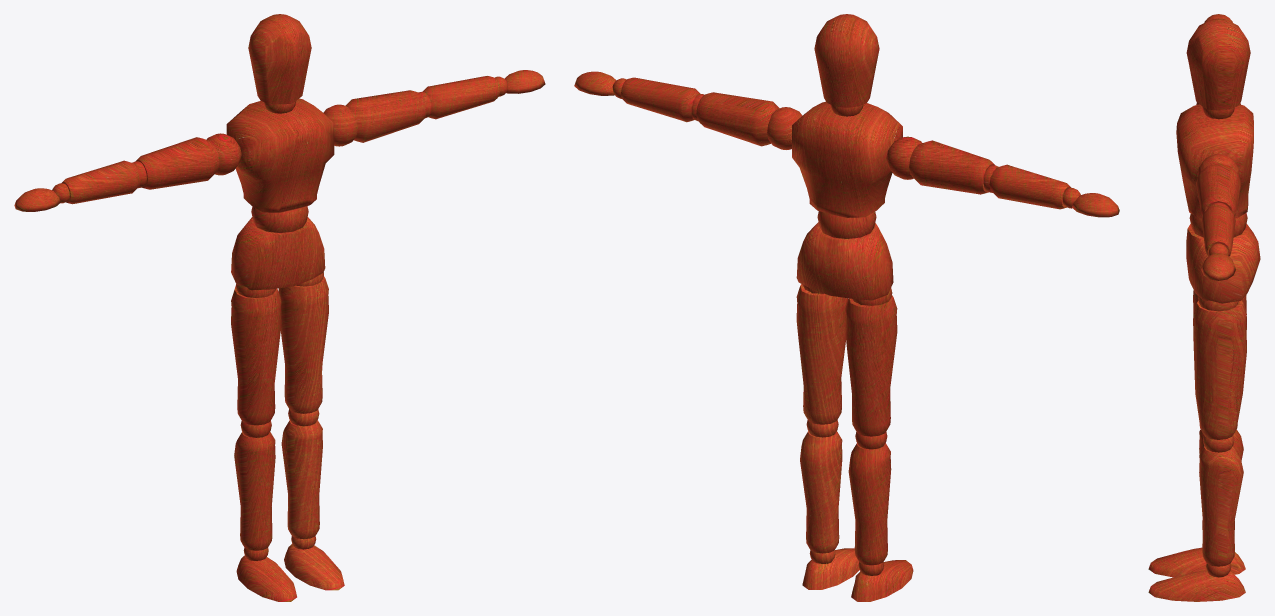
The model's file is dummy_obj_red.obj.
3 views of the same model, side by side, from view 1: azimuth 30°, elevation 25°; view 2: azimuth 150°, elevation 25°; view 3: azimuth 270°, elevation 25° (orthographic). The views are drawn at different scales.
Parts seen in each view (by area): view 1: dummy_hips3 dummy_belly dummy_torso, dummy_hips3 dummy_rpelvis dummy_rupleg, dummy_hips3 dummy_lpelvis dummy_lupleg, dummy_hips3, dummy_hips3 dummy_belly dummy_torso dummy_neck dummy_headq, dummy_hips3 dummy_rpelvis dummy_rupleg dummy_rknee dummy_rleg, dummy_hips3 dummy_lpelvis dummy_lupleg dummy_lknee dummy_lleg, dummy_hips3 dummy_belly dummy_torso dummy_rshoulder dummy_rarm d, dummy_hips3 dummy_belly dummy_torso dummy_lshoulder dummy_larm d, dummy_hips3 dummy_belly dummy_torso dummy_rshoulder dummy_rarm, dummy_hips3 dummy_belly dummy_torso dummy_lshoulder dummy_larm, dummy_hips3 dummy_lpelvis dummy_lupleg dummy_lknee dummy_lleg du (+4 smaller); view 2: dummy_hips3 dummy_belly dummy_torso, dummy_hips3 dummy_rpelvis dummy_rupleg, dummy_hips3 dummy_lpelvis dummy_lupleg, dummy_hips3, dummy_hips3 dummy_belly dummy_torso dummy_neck dummy_headq, dummy_hips3 dummy_lpelvis dummy_lupleg dummy_lknee dummy_lleg, dummy_hips3 dummy_rpelvis dummy_rupleg dummy_rknee dummy_rleg, dummy_hips3 dummy_belly dummy_torso dummy_rshoulder dummy_rarm d, dummy_hips3 dummy_belly dummy_torso dummy_lshoulder dummy_larm d, dummy_hips3 dummy_belly dummy_torso dummy_rshoulder dummy_rarm, dummy_hips3 dummy_belly dummy_torso dummy_lshoulder dummy_larm, dummy_hips3 dummy_rpelvis dummy_rupleg dummy_rknee dummy_rleg du (+4 smaller); view 3: dummy_hips3 dummy_lpelvis dummy_lupleg, dummy_hips3 dummy_belly dummy_torso, dummy_hips3 dummy_belly dummy_torso dummy_neck dummy_headq, dummy_hips3 dummy_lpelvis dummy_lupleg dummy_lknee dummy_lleg, dummy_hips3, dummy_hips3 dummy_lpelvis dummy_lupleg dummy_lknee dummy_lleg du, dummy_hips3 dummy_belly dummy_torso dummy_lshoulder dummy_larm d, dummy_hips3 dummy_belly dummy_torso dummy_lshoulder dummy_larm, dummy_hips3 dummy_rpelvis dummy_rupleg dummy_rknee dummy_rleg du, dummy_hips3 dummy_belly, dummy_hips3 dummy_belly dummy_torso dummy_lshoulder, dummy_hips3 dummy_lpelvis dummy_lupleg dummy_lknee (+3 smaller).
Part boxes in pixels (x1,y1,x2,y2): dummy_hips3 dummy_belly dummy_torso: (226,98,334,212); dummy_hips3 dummy_rpelvis dummy_rupleg: (231,285,281,425); dummy_hips3 dummy_lpelvis dummy_lupleg: (278,276,328,413); dummy_hips3: (231,217,325,290); dummy_hips3 dummy_belly dummy_torso dummy_neck dummy_headq: (248,14,311,104); dummy_hips3 dummy_rpelvis dummy_rupleg dummy_rknee dummy_rleg: (234,431,275,550); dummy_hips3 dummy_lpelvis dummy_lupleg dummy_lknee dummy_lleg: (281,420,322,539); dummy_hips3 dummy_belly dummy_torso dummy_rshoulder dummy_rarm d: (14,160,146,211); dummy_hips3 dummy_belly dummy_torso dummy_lshoulder dummy_larm d: (419,70,545,119); dummy_hips3 dummy_belly dummy_torso dummy_rshoulder dummy_rarm: (135,137,219,189); dummy_hips3 dummy_belly dummy_torso dummy_lshoulder dummy_larm: (345,90,426,142); dummy_hips3 dummy_lpelvis dummy_lupleg dummy_lknee dummy_lleg du: (284,536,344,590); dummy_hips3 dummy_belly dummy_torso: (792,101,902,217); dummy_hips3 dummy_rpelvis dummy_rupleg: (845,295,897,436); dummy_hips3 dummy_lpelvis dummy_lupleg: (796,284,848,424); dummy_hips3: (796,222,893,300); dummy_hips3 dummy_belly dummy_torso dummy_neck dummy_headq: (814,14,879,107); dummy_hips3 dummy_lpelvis dummy_lupleg dummy_lknee dummy_lleg: (800,431,842,553); dummy_hips3 dummy_rpelvis dummy_rupleg dummy_rknee dummy_rleg: (848,443,891,565); dummy_hips3 dummy_belly dummy_torso dummy_rshoulder dummy_rarm d: (983,164,1119,217); dummy_hips3 dummy_belly dummy_torso dummy_lshoulder dummy_larm d: (574,71,703,122); dummy_hips3 dummy_belly dummy_torso dummy_rshoulder dummy_rarm: (909,140,995,194); dummy_hips3 dummy_belly dummy_torso dummy_lshoulder dummy_larm: (696,92,779,146); dummy_hips3 dummy_rpelvis dummy_rupleg dummy_rknee dummy_rleg du: (851,560,913,601); dummy_hips3 dummy_lpelvis dummy_lupleg: (1193,300,1246,439); dummy_hips3 dummy_belly dummy_torso: (1176,104,1253,218); dummy_hips3 dummy_belly dummy_torso dummy_neck dummy_headq: (1186,18,1250,110); dummy_hips3 dummy_lpelvis dummy_lupleg dummy_lknee dummy_lleg: (1199,446,1243,566); dummy_hips3: (1186,223,1260,303); dummy_hips3 dummy_lpelvis dummy_lupleg dummy_lknee dummy_lleg du: (1148,563,1245,601); dummy_hips3 dummy_belly dummy_torso dummy_lshoulder dummy_larm d: (1201,202,1235,280); dummy_hips3 dummy_belly dummy_torso dummy_lshoulder dummy_larm: (1196,163,1241,216); dummy_hips3 dummy_rpelvis dummy_rupleg dummy_rknee dummy_rleg du: (1148,547,1245,577); dummy_hips3 dummy_belly: (1189,213,1247,237); dummy_hips3 dummy_belly dummy_torso dummy_lshoulder: (1197,153,1239,176); dummy_hips3 dummy_lpelvis dummy_lupleg dummy_lknee: (1203,435,1234,452).
Size of the model in its own units: 177 by 177 by 32.13.
Materials: 1 (1 with a texture image).
